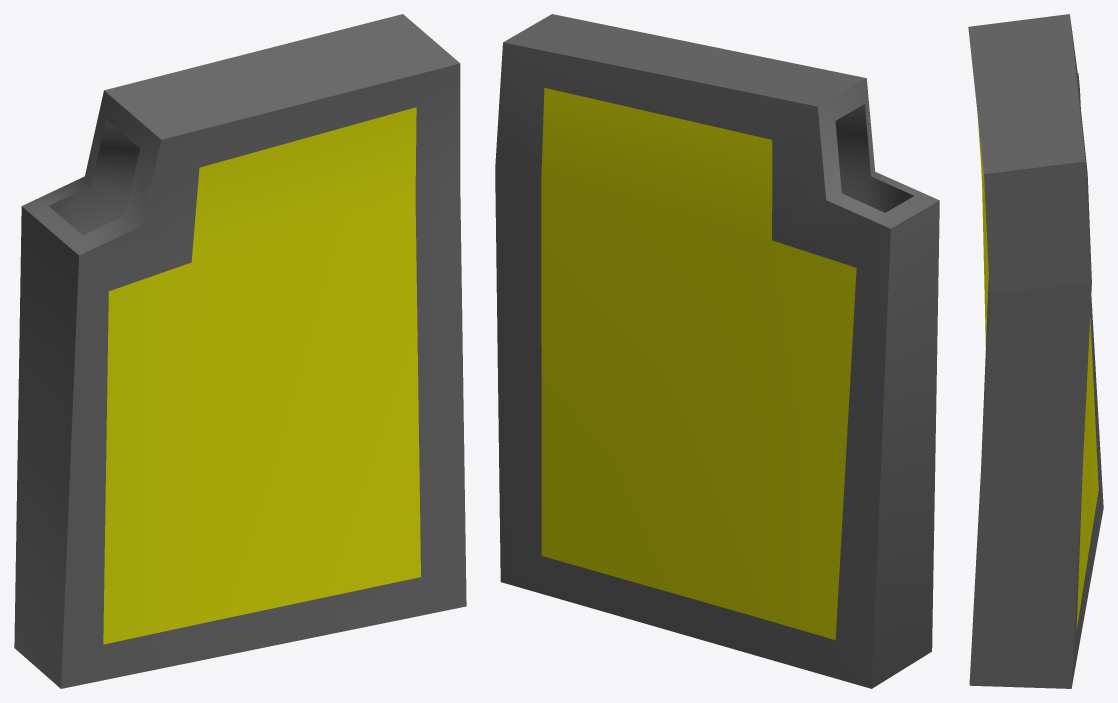
File: Laundry_WashingPowder.fbx
The picture shows the model from 3 angles, left to right: view 1: azimuth 30°, elevation 25°; view 2: azimuth 150°, elevation 25°; view 3: azimuth 270°, elevation 25°; orthographic projection. The views are drawn at different scales.
Parts seen in each view (by area): view 1: Laundry_WashingPowder; view 2: Laundry_WashingPowder; view 3: Laundry_WashingPowder.
Boxes of the visible parts, bbox=[...] form: Laundry_WashingPowder: bbox=[14, 14, 466, 688]; Laundry_WashingPowder: bbox=[495, 14, 939, 688]; Laundry_WashingPowder: bbox=[968, 14, 1103, 688].
Size of the model in its own units: 28.68 by 38.31 by 8.91.
